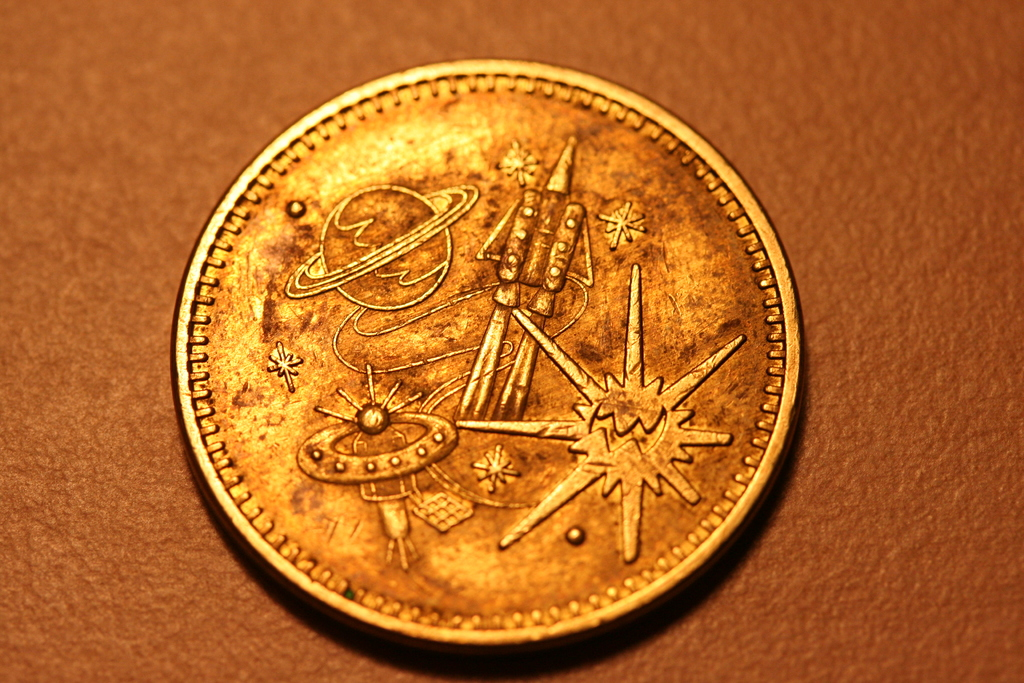Coin: (168, 57, 801, 657)
